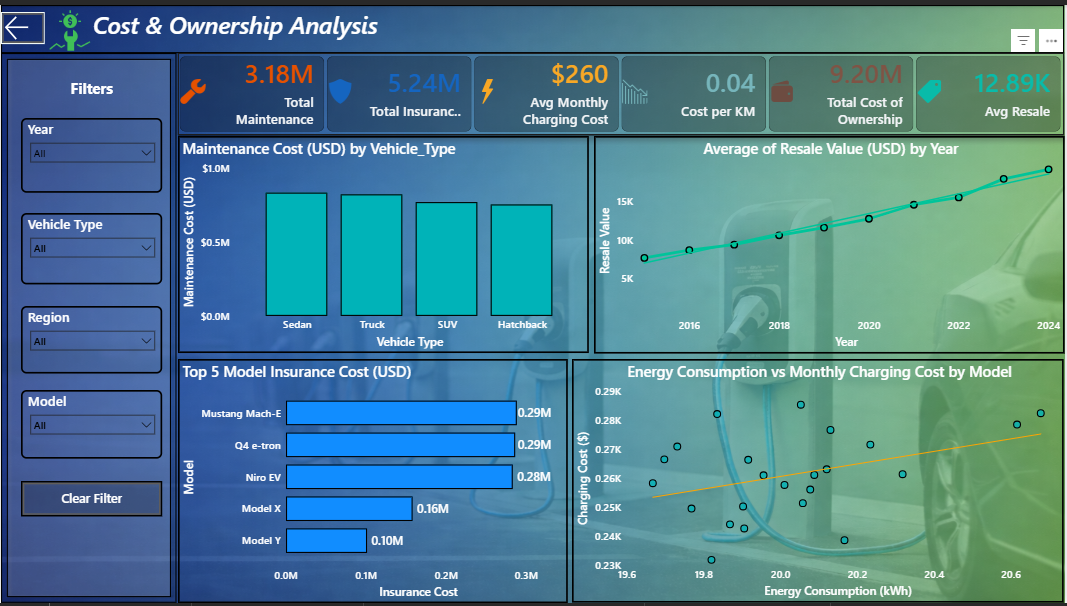

The dashboard page shown, as its layout file describes it:
{"tool":"powerbi","page":{"name":"Cost & Ownership Analysis","canvas":[1920,1080],"ordinal":3},"visuals":[{"type":"shape","box":[0,85.8,317.5,993.3],"z":0},{"type":"textbox","box":[0,0,1920,86.7],"z":1000},{"type":"cardVisual","fields":{"Data":["Measure_table.Total Maintenance Cost","Measure_table.Total Insurance Cost","Measure_table.Avg Monthly Charging Cost (USD)","Measure_table.Cost per KM","Measure_table.Total Cost of Ownership (TCO)","Measure_table.Avg Resale Value"]},"box":[320,86.7,1600,148.6],"z":2000},{"type":"slicer","title":"Year","fields":{"Values":["electric_vehicle_analytics.Year"]},"box":[36.5,203.8,255.3,135.2],"z":3000},{"type":"slicer","title":"Vehicle Type","fields":{"Values":["electric_vehicle_analytics.Vehicle_Type"]},"box":[36.5,375.4,255.3,128.7],"z":4000},{"type":"slicer","title":"Model","fields":{"Values":["electric_vehicle_analytics.Model"]},"box":[36.5,695.1,255.3,124.4],"z":5000},{"type":"slicer","title":"Region","fields":{"Values":["electric_vehicle_analytics.Region"]},"box":[36.5,542.7,255.3,122.3],"z":6000},{"type":"clusteredColumnChart","title":"Maintenance Cost (USD) by Vehicle_Type","fields":{"Category":["electric_vehicle_analytics.Vehicle_Type"],"Y":["Sum(cost_ownership.Maintenance_Cost_USD)"]},"box":[319.6,236,742,392],"z":7000},{"type":"lineChart","title":"Average of Resale Value (USD) by Year","fields":{"Y":["Avg(Sustainability.Resale_Value_USD)"],"Category":["electric_vehicle_analytics.Year"]},"box":[1070.5,236,850,393],"z":8000},{"type":"barChart","title":"Top 5 Model Insurance Cost (USD)","fields":{"Category":["electric_vehicle_analytics.Model"],"Y":["Sum(cost_ownership.Insurance_Cost_USD)"]},"box":[319.6,639.3,704,441],"z":9000},{"type":"scatterChart","title":"Energy Consumption vs Monthly Charging Cost by Model","fields":{"X":["Avg(Sustainability.Energy_Consumption_kWh_per_100km)"],"Y":["Avg(cost_ownership.Monthly_Charging_Cost_USD)"],"Category":["electric_vehicle_analytics.Model"]},"box":[1031.9,639.3,888.1,439.8],"z":10000},{"type":"image","box":[62.2,6.4,126.6,79.4],"z":11000},{"type":"textbox","box":[36.5,126.6,255.3,77.2],"z":12000},{"type":"actionButton","box":[36.5,860.2,255.3,64.4],"z":13000},{"type":"actionButton","box":[0,12.9,79.4,57.9],"z":14000}]}

Visuals, with their boxes in screenshot pixels (x1, y1, x2, y2), scaled from the page's 1920x1080 canvas onto the 1067x606 screenshot:
shape: [x1=0, y1=48, x2=176, y2=605]
textbox: [x1=0, y1=0, x2=1066, y2=49]
cardVisual - Measure_table.Total Maintenance Cost x Measure_table.Total Insurance Cost: [x1=178, y1=49, x2=1066, y2=132]
"Year" slicer: [x1=20, y1=114, x2=162, y2=190]
"Vehicle Type" slicer: [x1=20, y1=211, x2=162, y2=283]
"Model" slicer: [x1=20, y1=390, x2=162, y2=460]
"Region" slicer: [x1=20, y1=305, x2=162, y2=373]
"Maintenance Cost (USD) by Vehicle_Type" clusteredColumnChart: [x1=178, y1=132, x2=590, y2=352]
"Average of Resale Value (USD) by Year" lineChart: [x1=595, y1=132, x2=1066, y2=353]
"Top 5 Model Insurance Cost (USD)" barChart: [x1=178, y1=359, x2=569, y2=605]
"Energy Consumption vs Monthly Charging Cost by Model" scatterChart: [x1=573, y1=359, x2=1066, y2=605]
image: [x1=35, y1=4, x2=105, y2=48]
textbox: [x1=20, y1=71, x2=162, y2=114]
actionButton: [x1=20, y1=483, x2=162, y2=519]
actionButton: [x1=0, y1=7, x2=44, y2=40]
